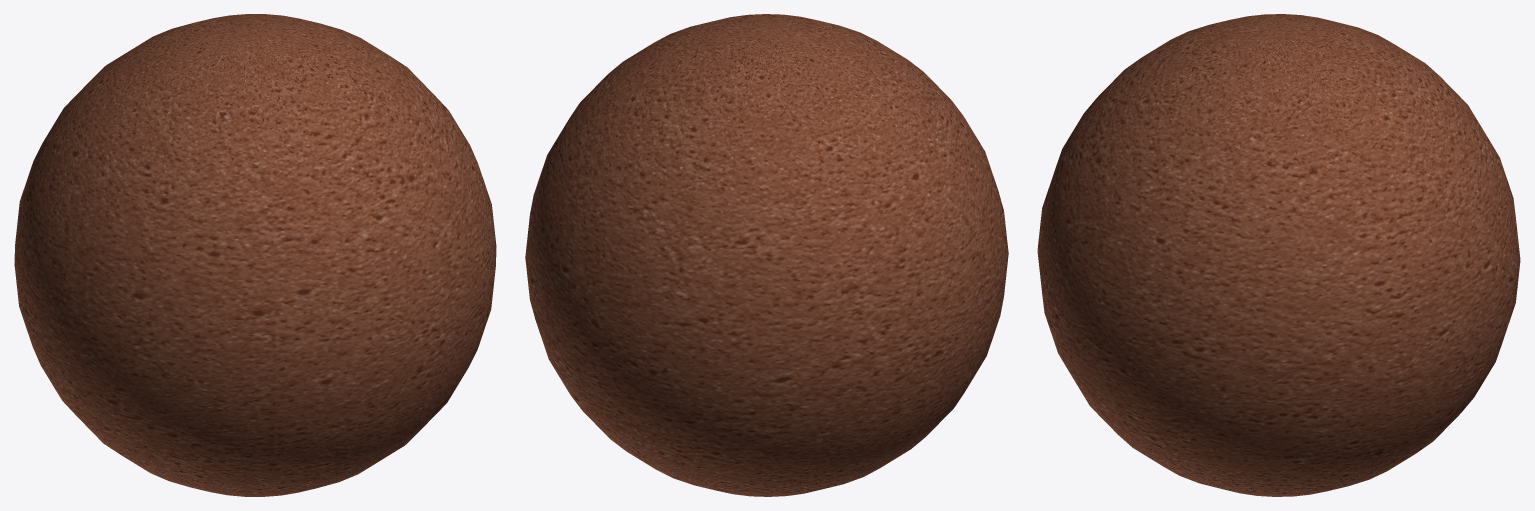
The model's file is bola_chocolate.glb.
The picture shows the model from 3 angles, left to right: view 1: azimuth 30°, elevation 25°; view 2: azimuth 150°, elevation 25°; view 3: azimuth 270°, elevation 25°; orthographic projection.
Parts seen in each view (by area): view 1: Cube.053; view 2: Cube.053; view 3: Cube.053.
Boxes of the visible parts, <box> form: Cube.053: <box>14,14,496,496</box>; Cube.053: <box>525,14,1008,496</box>; Cube.053: <box>1037,14,1520,496</box>.
Bounding box in the file's own units: 0.1896 × 0.1898 × 0.1896.
Materials: 1 (1 with a texture image).
